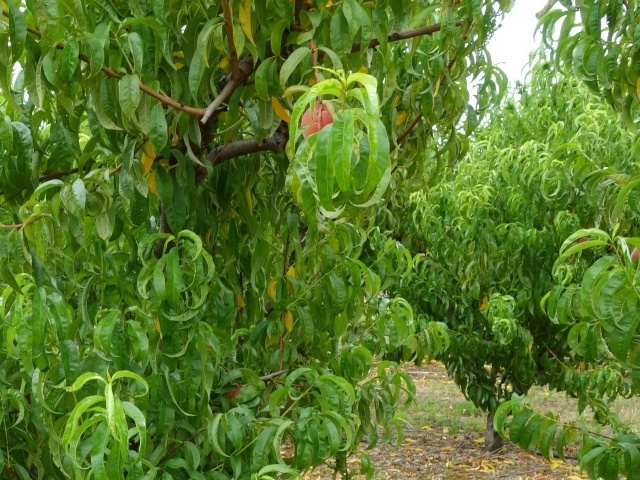peach: (296, 96, 343, 142)
